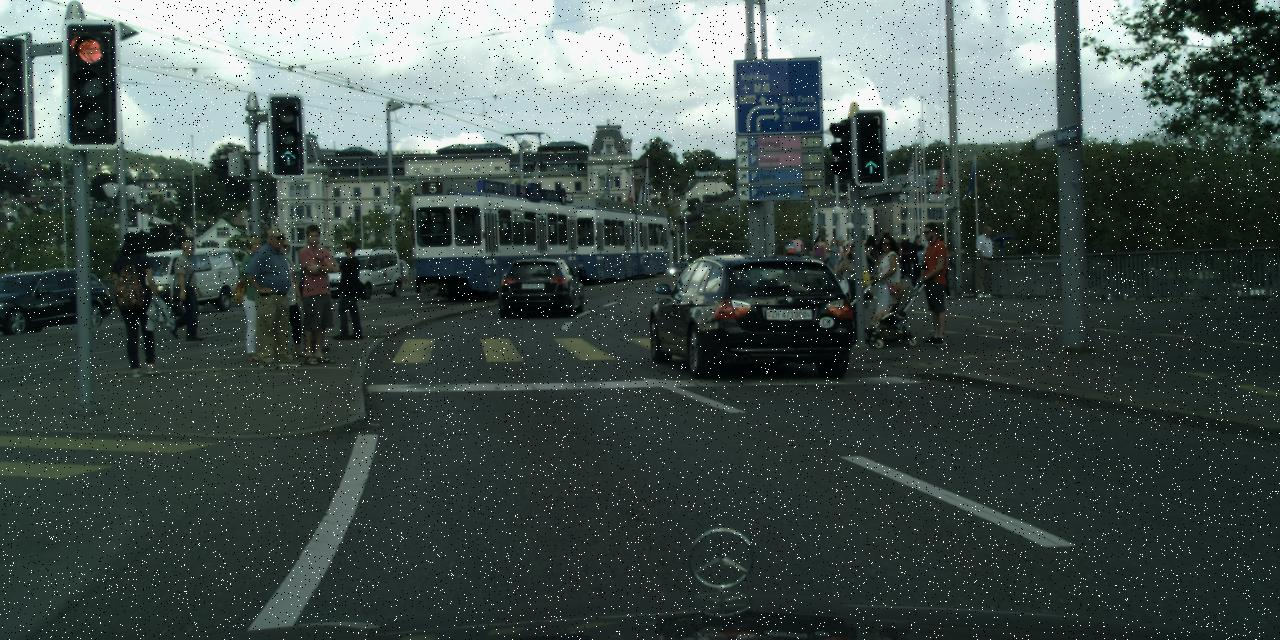ped: (108, 230, 167, 374), (287, 224, 343, 364), (248, 227, 304, 365), (230, 234, 280, 360), (909, 222, 959, 343), (260, 236, 309, 358), (330, 240, 370, 340), (165, 241, 204, 337), (868, 236, 906, 330), (838, 243, 869, 320), (971, 225, 1000, 297), (928, 233, 954, 299), (907, 234, 927, 286), (861, 234, 880, 280), (809, 234, 828, 279), (877, 229, 895, 275), (897, 234, 914, 278), (824, 238, 841, 281), (914, 244, 930, 283), (788, 235, 803, 273), (782, 238, 796, 271), (892, 237, 906, 269), (838, 239, 853, 260), (395, 258, 406, 284)
